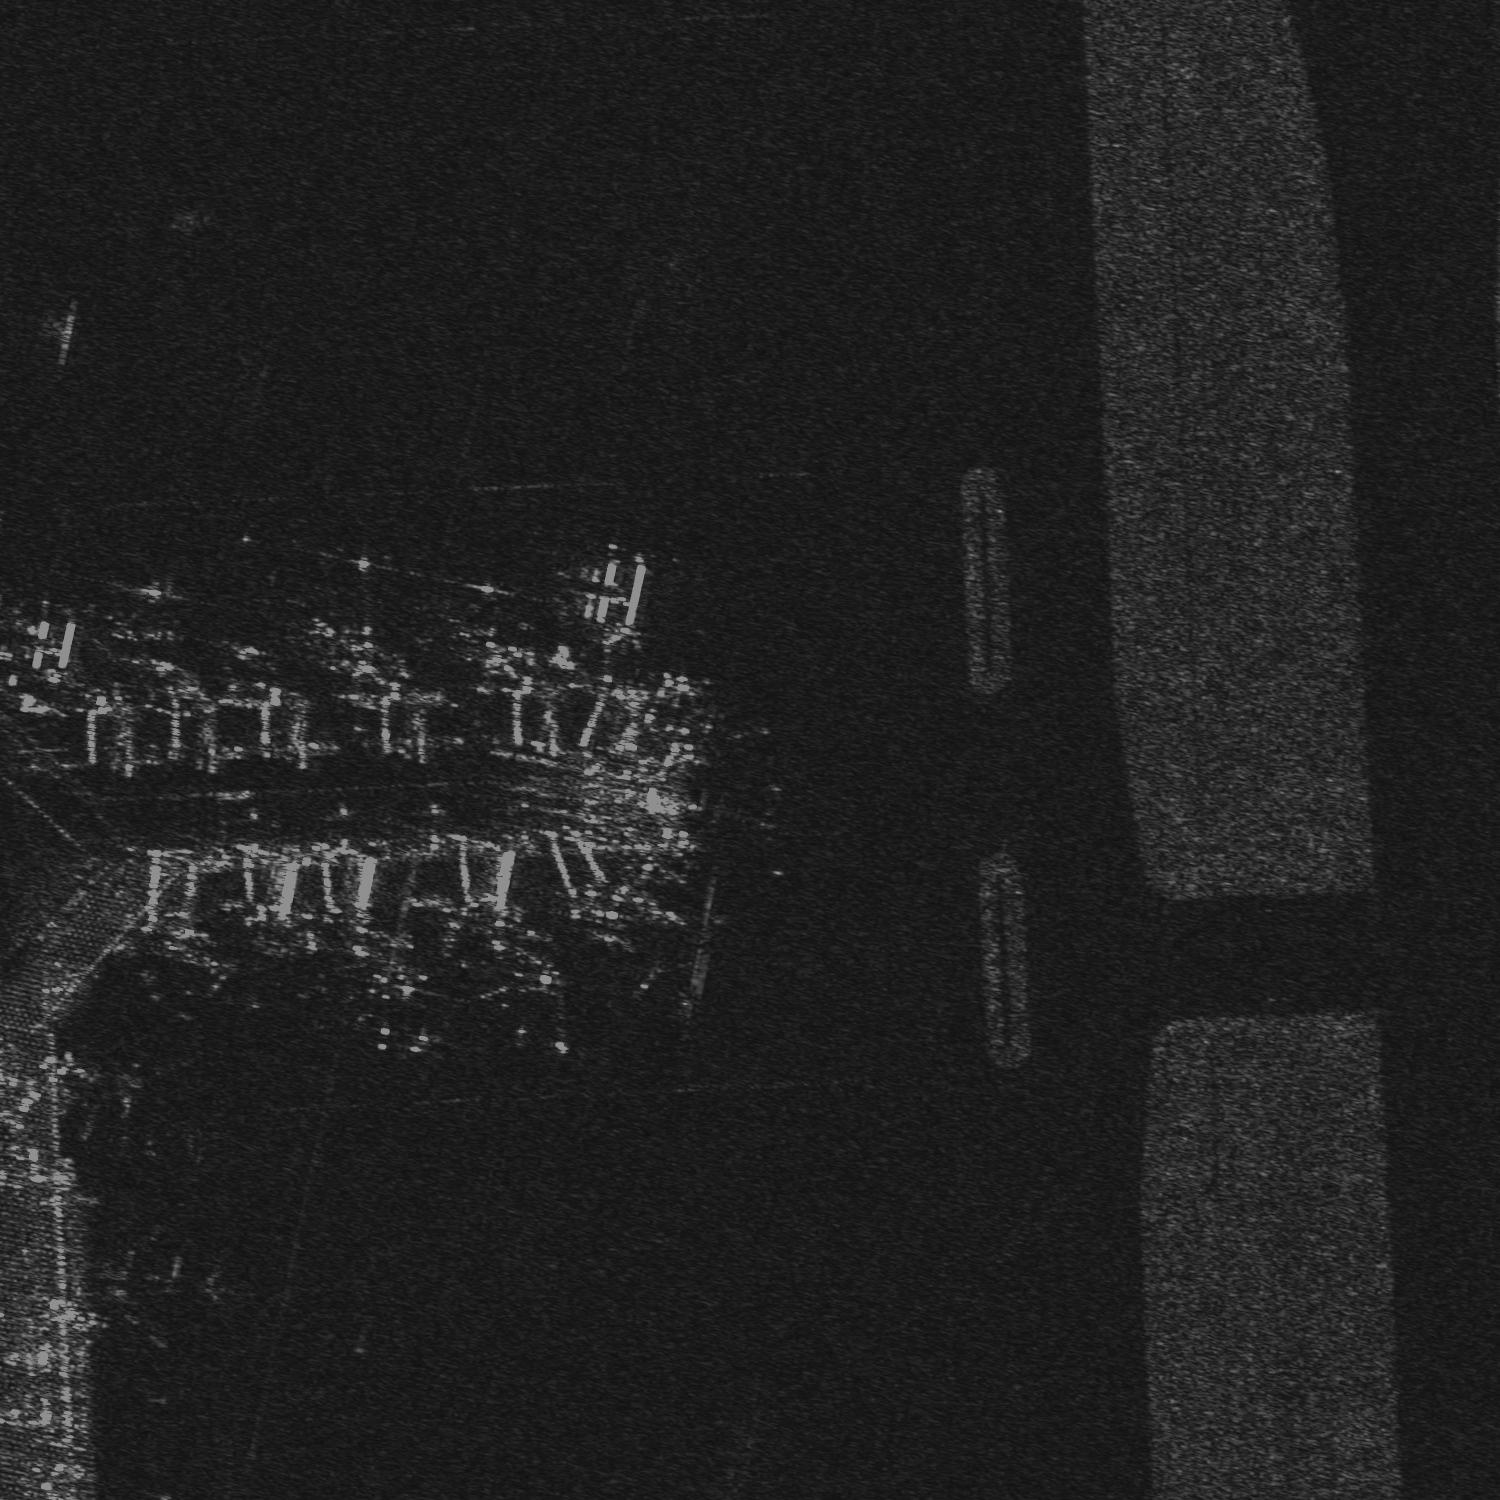A220: (85, 567, 196, 655)
A320/321: (87, 1224, 225, 1354), (283, 541, 396, 657), (346, 966, 452, 1063), (427, 567, 532, 655), (620, 942, 709, 1025)
Boeing737: (475, 957, 591, 1052)
